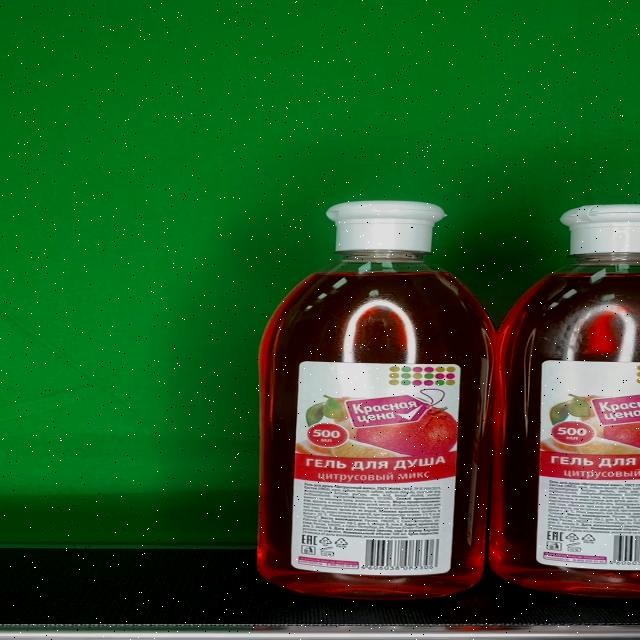Bottle: (256, 200, 496, 602)
Cap: (325, 201, 446, 253)
